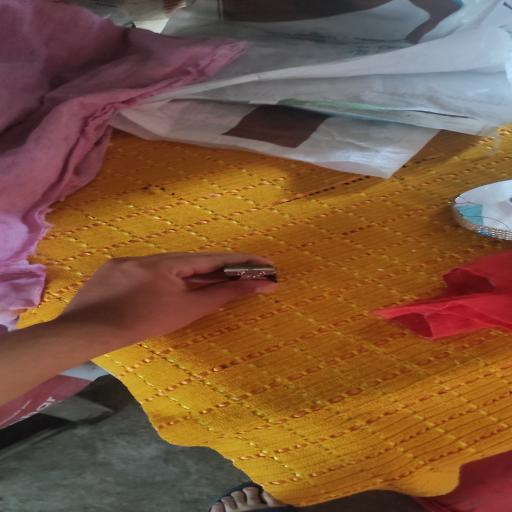Carrito: (223, 264, 276, 282)
